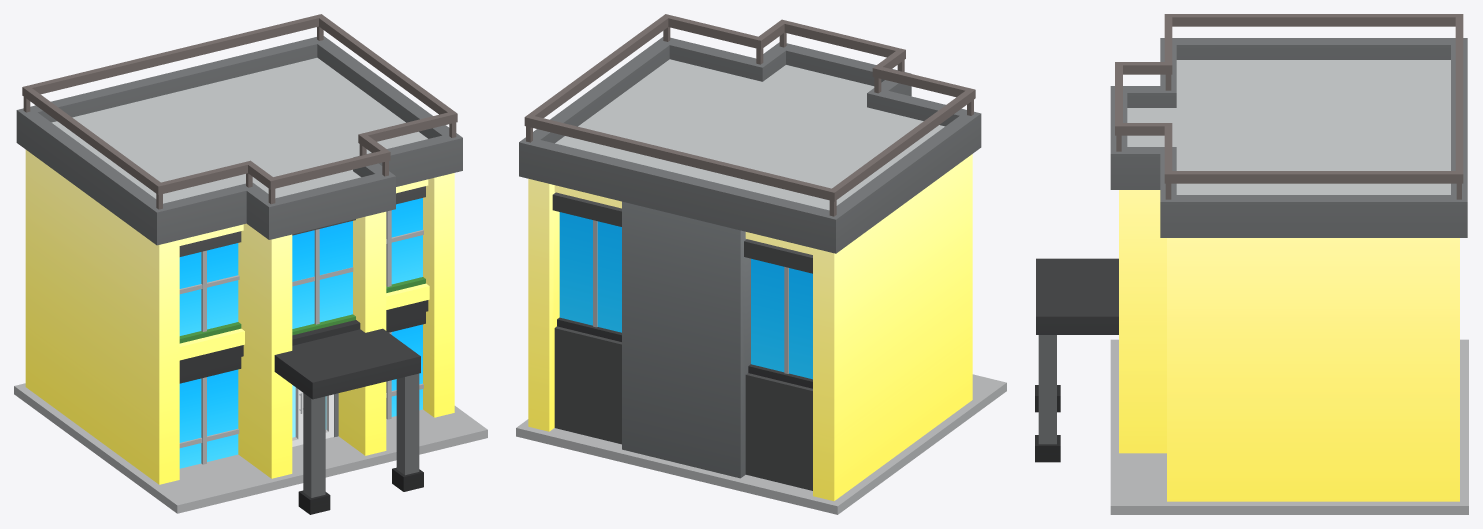
The model's file is city2-building-hotel-03.glb.
3 renders of one model, left to right at view 1: azimuth 30°, elevation 25°; view 2: azimuth 150°, elevation 25°; view 3: azimuth 270°, elevation 25°, orthographic. The views are drawn at different scales.
Parts seen in each view (by area): view 1: Building_Hotel_03; view 2: Building_Hotel_03; view 3: Building_Hotel_03.
Part boxes in pixels (bbox=[...]): Building_Hotel_03: bbox=[14, 14, 487, 514]; Building_Hotel_03: bbox=[516, 14, 1006, 514]; Building_Hotel_03: bbox=[1035, 14, 1468, 514].
Size of the model in its own units: 8.22 by 7.78 by 9.06.
1 material, 1 textured.
